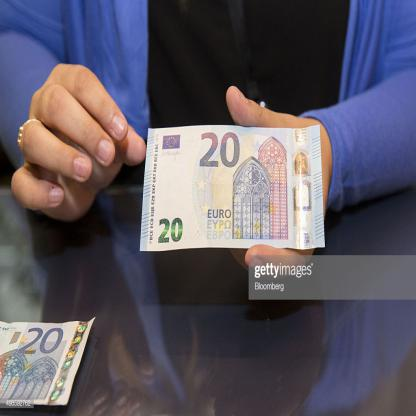euro_banknote: (140, 125, 326, 252), (2, 317, 96, 406)
